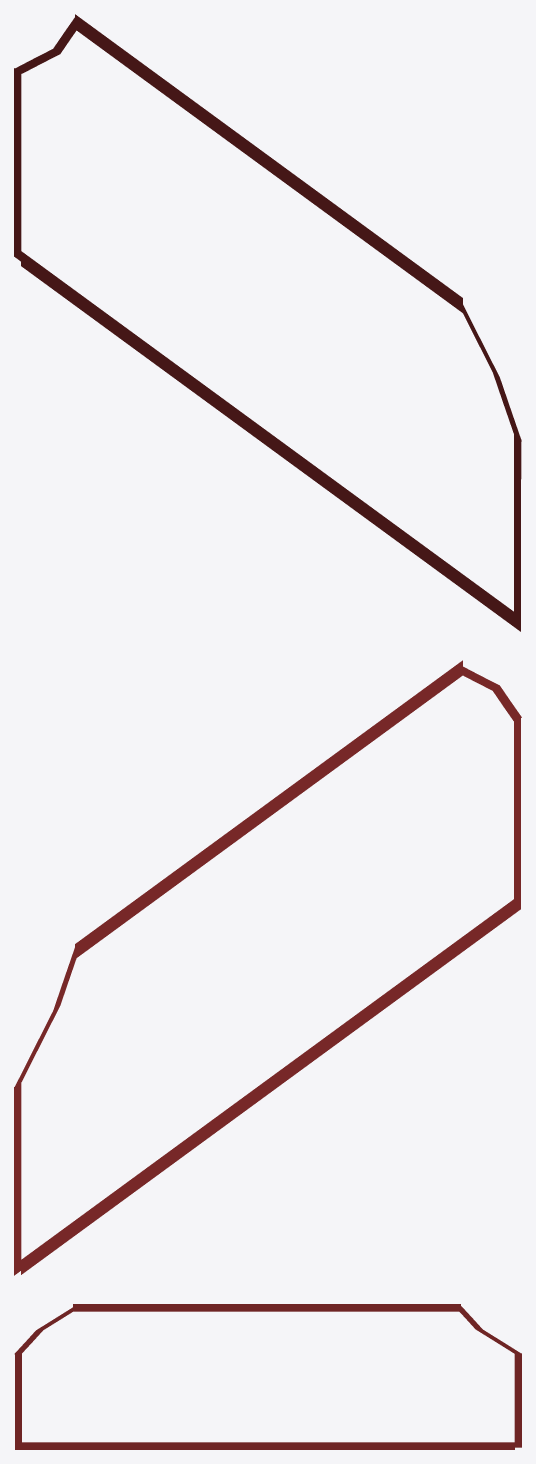
Rendered from tender-lining.dae.
3 views of the same model, one above another, from view 1: azimuth 30°, elevation 25°; view 2: azimuth 150°, elevation 25°; view 3: azimuth 270°, elevation 25° (orthographic). The views are drawn at different scales.
Parts seen in each view (by area): view 1: Plane_002_003, Plane_002_002, Plane_003, Plane_003_003, Plane_003_002; view 2: Plane_002_003, Plane_002_002, Plane_003, Plane_003_003, Plane_003_001, Plane_003_002; view 3: Plane_002_003, Plane_002_002, Plane_003, Plane_003_003, Plane_003_001, Plane_003_002.
Boxes of the visible parts, <box> form: Plane_002_003: <box>21,251,520,631</box>; Plane_002_002: <box>75,14,462,312</box>; Plane_003: <box>14,68,21,261</box>; Plane_003_003: <box>514,435,521,627</box>; Plane_003_002: <box>463,305,521,441</box>; Plane_002_003: <box>21,899,520,1274</box>; Plane_002_002: <box>75,660,462,958</box>; Plane_003: <box>14,1082,21,1275</box>; Plane_003_003: <box>514,718,520,909</box>; Plane_003_001: <box>15,948,76,1086</box>; Plane_003_002: <box>463,666,521,722</box>; Plane_002_003: <box>15,1442,514,1449</box>; Plane_002_002: <box>73,1304,460,1311</box>; Plane_003: <box>514,1353,521,1447</box>; Plane_003_003: <box>15,1353,21,1442</box>; Plane_003_001: <box>454,1305,520,1353</box>; Plane_003_002: <box>14,1306,80,1354</box>.
Bounding box in the file's own units: 3.25e-06 × 3.51 × 1.11.
